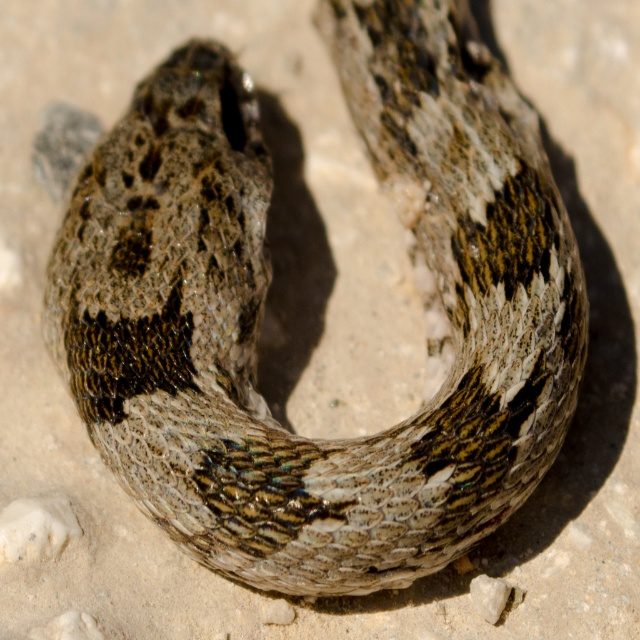Snake: (40, 0, 591, 598)
